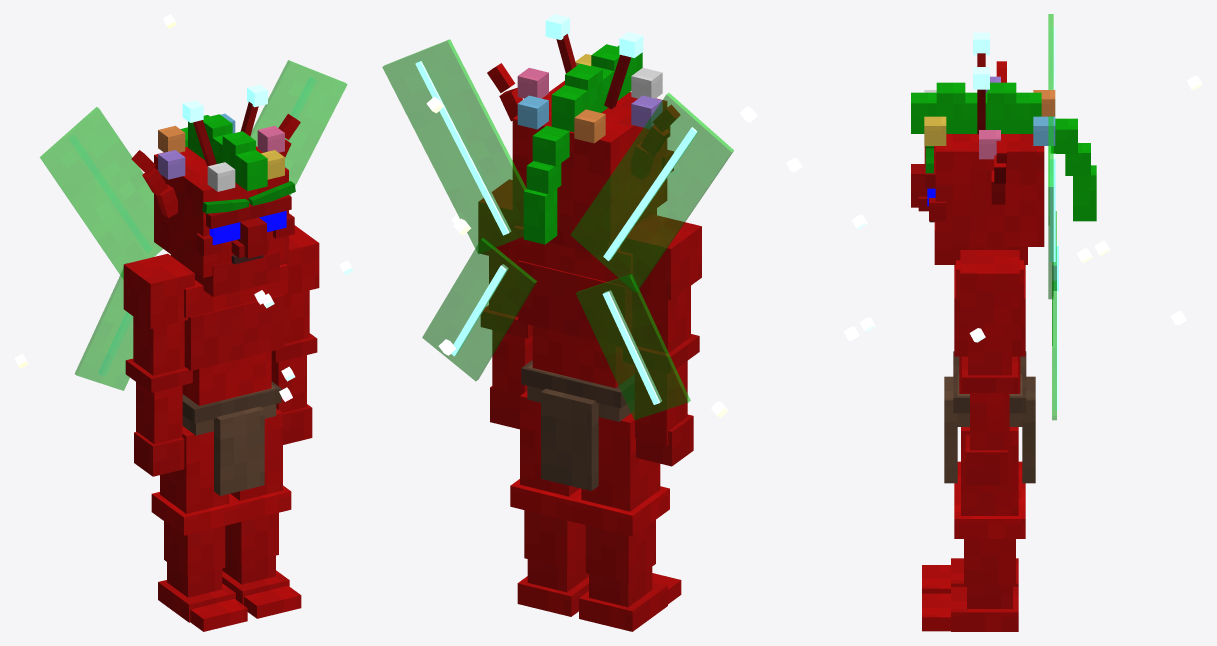
The model's file is fairy_s2.glb.
3 renders of one model, left to right at view 1: azimuth 30°, elevation 25°; view 2: azimuth 150°, elevation 25°; view 3: azimuth 270°, elevation 25°, orthographic. The views are drawn at different scales.
Visible parts, largest first — view 1: Torso, Head, ArmR, LegR, LegL, ArmL; view 2: Torso, Head, LegR, ArmR, LegL, ArmL; view 3: Head, ArmL, LegL, Torso, LegR.
Part boxes in pixels (left/top/right/bottom): Torso: left=14, top=14, right=353, bottom=495; Head: left=131, top=84, right=300, bottom=296; ArmR: left=123, top=253, right=194, bottom=476; LegR: left=151, top=426, right=247, bottom=631; LegL: left=222, top=408, right=301, bottom=618; ArmL: left=271, top=225, right=319, bottom=444; Torso: left=382, top=39, right=757, bottom=490; Head: left=487, top=14, right=680, bottom=255; LegR: left=571, top=411, right=681, bottom=631; ArmR: left=620, top=214, right=701, bottom=466; LegL: left=510, top=391, right=588, bottom=616; ArmL: left=478, top=179, right=532, bottom=429; Head: left=911, top=32, right=1096, bottom=264; ArmL: left=960, top=250, right=1019, bottom=485; LegL: left=922, top=427, right=1025, bottom=631; Torso: left=786, top=14, right=1202, bottom=483; LegR: left=922, top=461, right=1025, bottom=593.
Size of the model in its own units: 0.7287 by 1.11 by 0.7622.
Materials: 32 (32 with a texture image).
